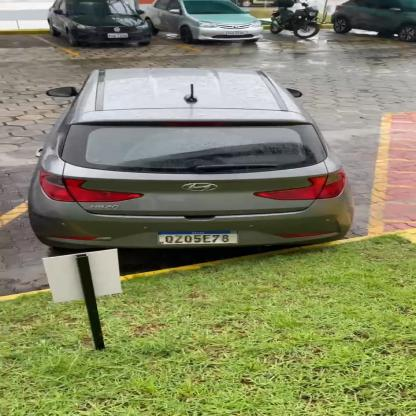Plate: (154, 226, 246, 248)
